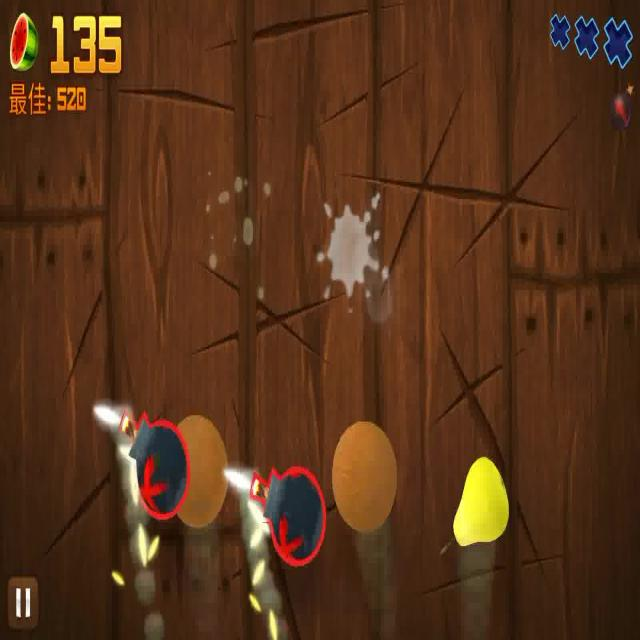bomb: (109, 402, 186, 521), (250, 464, 326, 566)
fruit: (332, 417, 396, 527), (172, 416, 228, 526), (454, 448, 507, 552)
